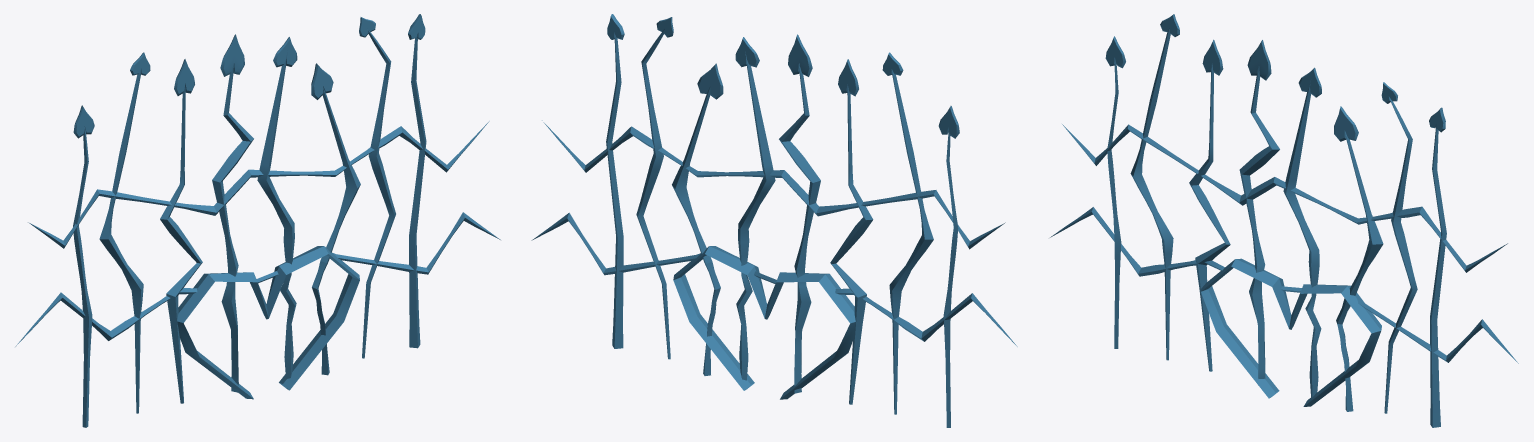
The model's file is Mesh_RejaCorazon_v001.fbx.
3 views of the same model, side by side, from view 1: azimuth 30°, elevation 25°; view 2: azimuth 150°, elevation 25°; view 3: azimuth 330°, elevation 25° (orthographic). The views are drawn at different scales.
Parts seen in each view (by area): view 1: Mesh_RejaCorazon_v001; view 2: Mesh_RejaCorazon_v001; view 3: Mesh_RejaCorazon_v001.
Boxes of the visible parts, x1,y1,x2,y2 form: Mesh_RejaCorazon_v001: (15,14,500,427); Mesh_RejaCorazon_v001: (531,14,1017,427); Mesh_RejaCorazon_v001: (1050,14,1518,427).
Bounding box in the file's own units: 18.68 × 13.58 × 0.7299.
